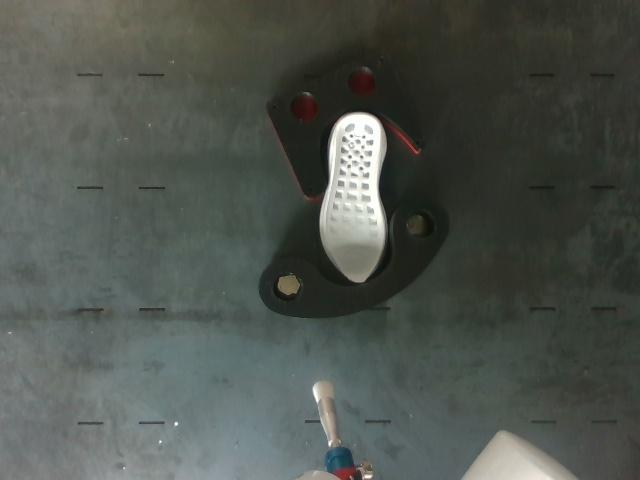shoes: (325, 115, 385, 282)
